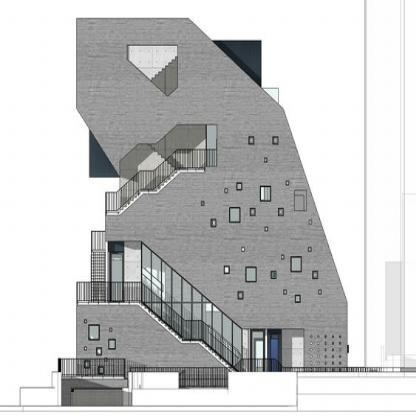Balcony: (130, 359, 382, 389), (76, 281, 141, 304), (58, 358, 124, 379), (248, 88, 278, 103), (105, 192, 119, 215)
Building Outline: (20, 18, 383, 412)
Door: (267, 330, 282, 383), (251, 330, 266, 383), (110, 252, 124, 302)
Facade: (20, 18, 383, 412)
Glass Wall: (142, 242, 242, 380), (120, 125, 205, 215)
Window: (127, 45, 178, 96), (295, 190, 306, 210), (291, 257, 301, 271), (246, 268, 256, 281), (230, 208, 239, 222), (261, 187, 270, 201), (90, 326, 99, 339), (110, 340, 115, 348), (211, 219, 216, 226), (237, 183, 242, 189), (271, 272, 276, 278), (84, 362, 89, 368), (313, 272, 318, 278), (250, 209, 255, 215), (98, 367, 103, 373), (225, 266, 229, 273), (273, 137, 277, 143), (238, 293, 242, 299), (279, 209, 283, 215), (296, 296, 300, 302), (249, 137, 253, 143), (97, 348, 101, 354), (265, 227, 268, 231), (242, 247, 245, 251), (225, 188, 228, 192), (264, 158, 267, 162), (309, 220, 312, 224), (308, 247, 311, 251), (282, 255, 285, 259), (319, 290, 322, 294), (284, 290, 287, 294), (286, 181, 289, 185), (201, 201, 204, 205), (110, 329, 112, 332), (85, 319, 87, 322), (105, 358, 107, 361), (85, 347, 87, 350)
